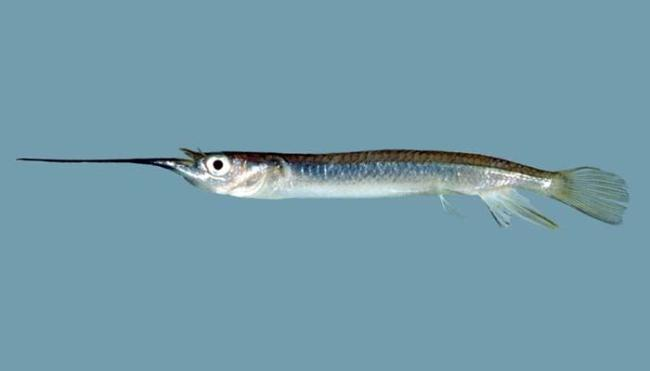fish: (16, 146, 632, 228)
